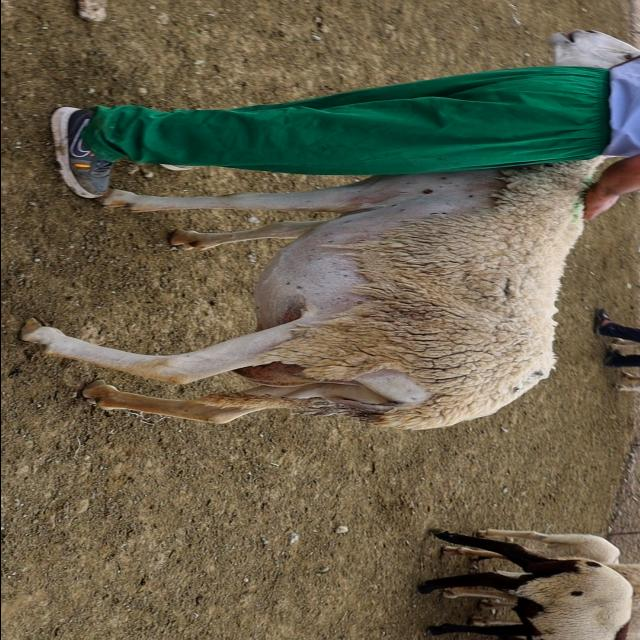Score_2: (20, 158, 601, 430)
